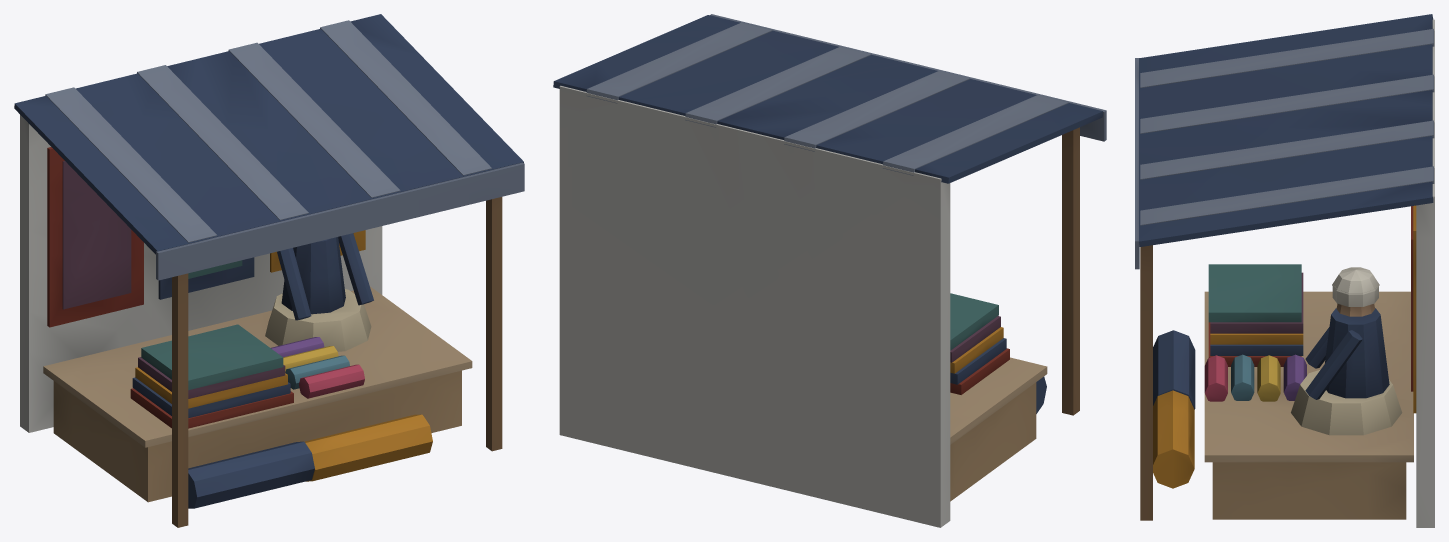
File: stall-cloth.glb
The picture shows the model from 3 angles, left to right: view 1: azimuth 30°, elevation 25°; view 2: azimuth 150°, elevation 25°; view 3: azimuth 270°, elevation 25°; orthographic projection. The views are drawn at different scales.
Visible parts, largest first — view 1: base; view 2: base; view 3: base.
Boxes of the visible parts, x1=… form: base: x1=14, y1=14, x2=524, y2=527; base: x1=553, y1=14, x2=1106, y2=527; base: x1=1135, y1=14, x2=1434, y2=527.
Bounding box in the file's own units: 2.81 × 2.39 × 1.94.
